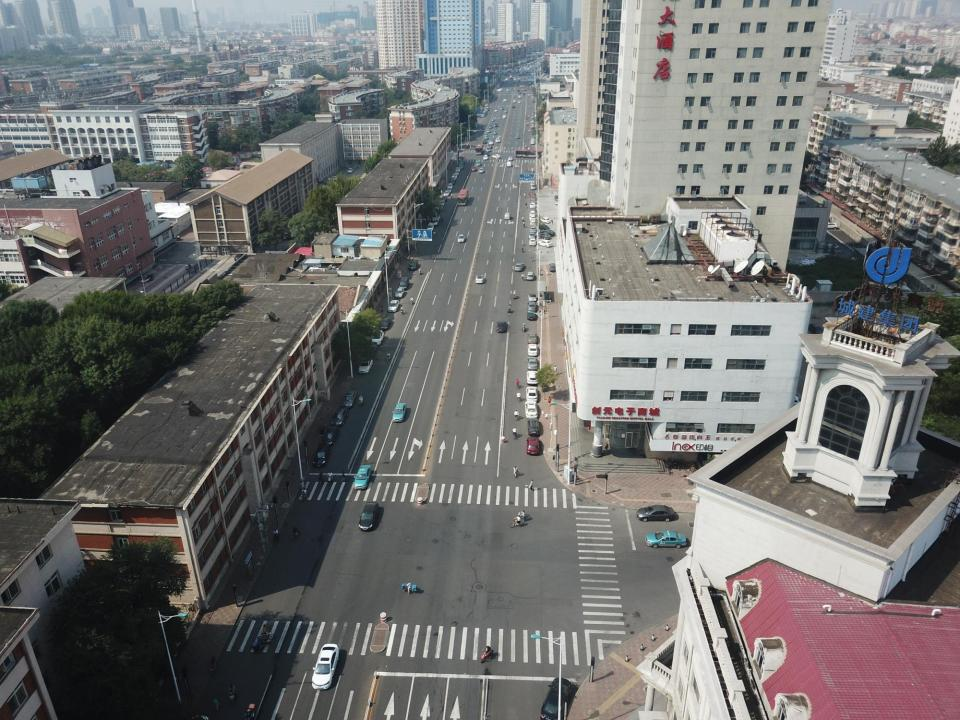bus: (428, 206, 441, 226), (458, 190, 468, 206)
car: (311, 642, 339, 690), (645, 530, 687, 550), (636, 504, 674, 522), (358, 501, 380, 531), (312, 443, 330, 467), (354, 464, 371, 489), (391, 403, 408, 423), (322, 426, 340, 444), (331, 407, 348, 426), (341, 391, 357, 408), (358, 356, 373, 373), (526, 437, 539, 455), (525, 400, 538, 418), (364, 344, 378, 360), (528, 418, 540, 436), (370, 330, 384, 345), (526, 388, 538, 404), (526, 370, 538, 386), (378, 317, 392, 330), (819, 221, 838, 230), (388, 300, 399, 312), (527, 357, 537, 370), (528, 344, 538, 356), (496, 321, 506, 333), (537, 240, 553, 247), (540, 229, 556, 236), (234, 252, 246, 261), (395, 288, 405, 298), (514, 262, 524, 272), (528, 333, 537, 344), (527, 310, 536, 321), (409, 261, 418, 271), (475, 274, 484, 284), (528, 301, 536, 312), (538, 223, 550, 230), (539, 217, 551, 224), (539, 233, 552, 239), (457, 234, 465, 243), (549, 263, 557, 272), (528, 293, 536, 301), (526, 272, 534, 280), (528, 238, 536, 246), (427, 224, 435, 232), (504, 212, 511, 220), (330, 175, 339, 181), (530, 226, 536, 233), (530, 207, 537, 213), (530, 195, 537, 201), (529, 232, 535, 238), (530, 221, 536, 227), (530, 210, 536, 216), (530, 202, 536, 208), (530, 198, 536, 204), (441, 196, 447, 202), (439, 200, 445, 206), (437, 204, 443, 210), (347, 167, 353, 173), (529, 216, 536, 221)
van: (399, 277, 409, 290)
